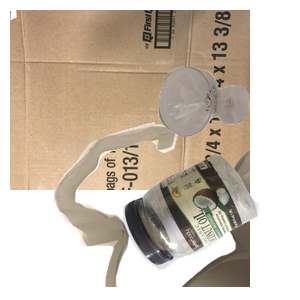cardboard: (10, 10, 250, 190)
glass: (156, 64, 300, 194)
plastic: (120, 152, 300, 300)
trash: (51, 120, 291, 300)
